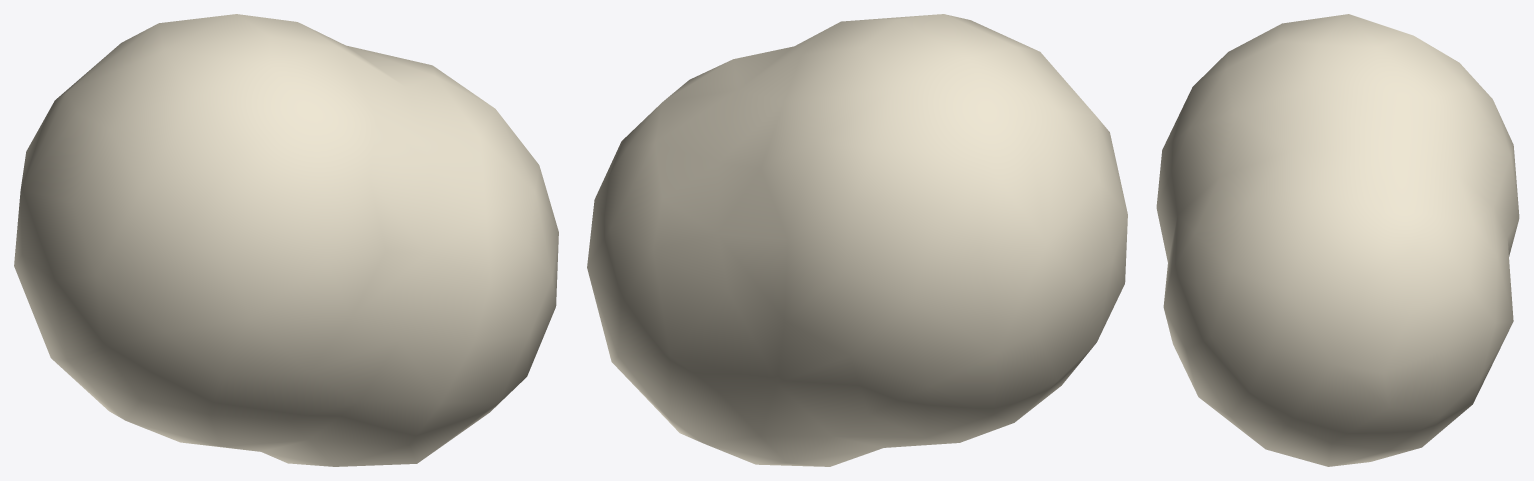
File: caudal_2.glb
The picture shows the model from 3 angles, left to right: view 1: azimuth 30°, elevation 25°; view 2: azimuth 150°, elevation 25°; view 3: azimuth 270°, elevation 25°; orthographic projection. The views are drawn at different scales.
Parts seen in each view (by area): view 1: geometry_0; view 2: geometry_0; view 3: geometry_0.
Part boxes in pixels (box(x1,y1,x2,y2)): geometry_0: box(14, 14, 558, 466); geometry_0: box(587, 14, 1127, 466); geometry_0: box(1156, 14, 1519, 466).
Bounding box in the file's own units: 0.068 × 0.0591 × 0.0526.
